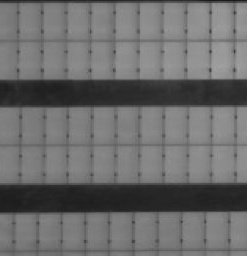solar: (15, 1, 44, 41), (40, 1, 69, 41), (64, 1, 93, 41), (89, 1, 118, 41), (112, 1, 141, 41), (136, 1, 165, 41), (159, 1, 188, 41), (183, 1, 212, 41), (208, 1, 237, 41), (208, 38, 237, 78), (183, 39, 212, 79), (160, 40, 189, 80), (137, 40, 166, 80), (111, 40, 140, 80), (88, 40, 117, 80), (64, 40, 93, 80), (40, 40, 69, 80), (15, 40, 44, 80), (18, 105, 47, 145), (42, 105, 71, 145), (65, 105, 94, 145), (90, 105, 119, 145), (114, 105, 143, 145), (136, 105, 165, 145), (161, 105, 190, 145), (185, 105, 214, 145), (209, 105, 238, 145), (209, 144, 238, 184), (184, 145, 213, 185), (160, 145, 189, 185), (137, 145, 166, 185), (113, 145, 142, 185), (89, 145, 118, 185), (65, 145, 94, 185), (42, 145, 71, 185), (17, 145, 46, 185), (11, 212, 40, 252), (36, 212, 65, 252), (60, 212, 89, 252), (83, 212, 112, 252), (107, 212, 136, 252), (132, 212, 161, 252), (155, 212, 184, 252), (180, 212, 209, 252), (203, 212, 232, 252)
